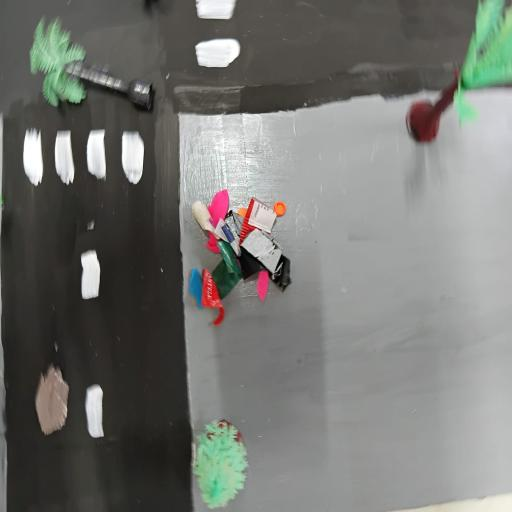fallen trees: (25, 16, 164, 118)
porthole: (31, 364, 73, 436)
trash: (187, 182, 297, 331)
